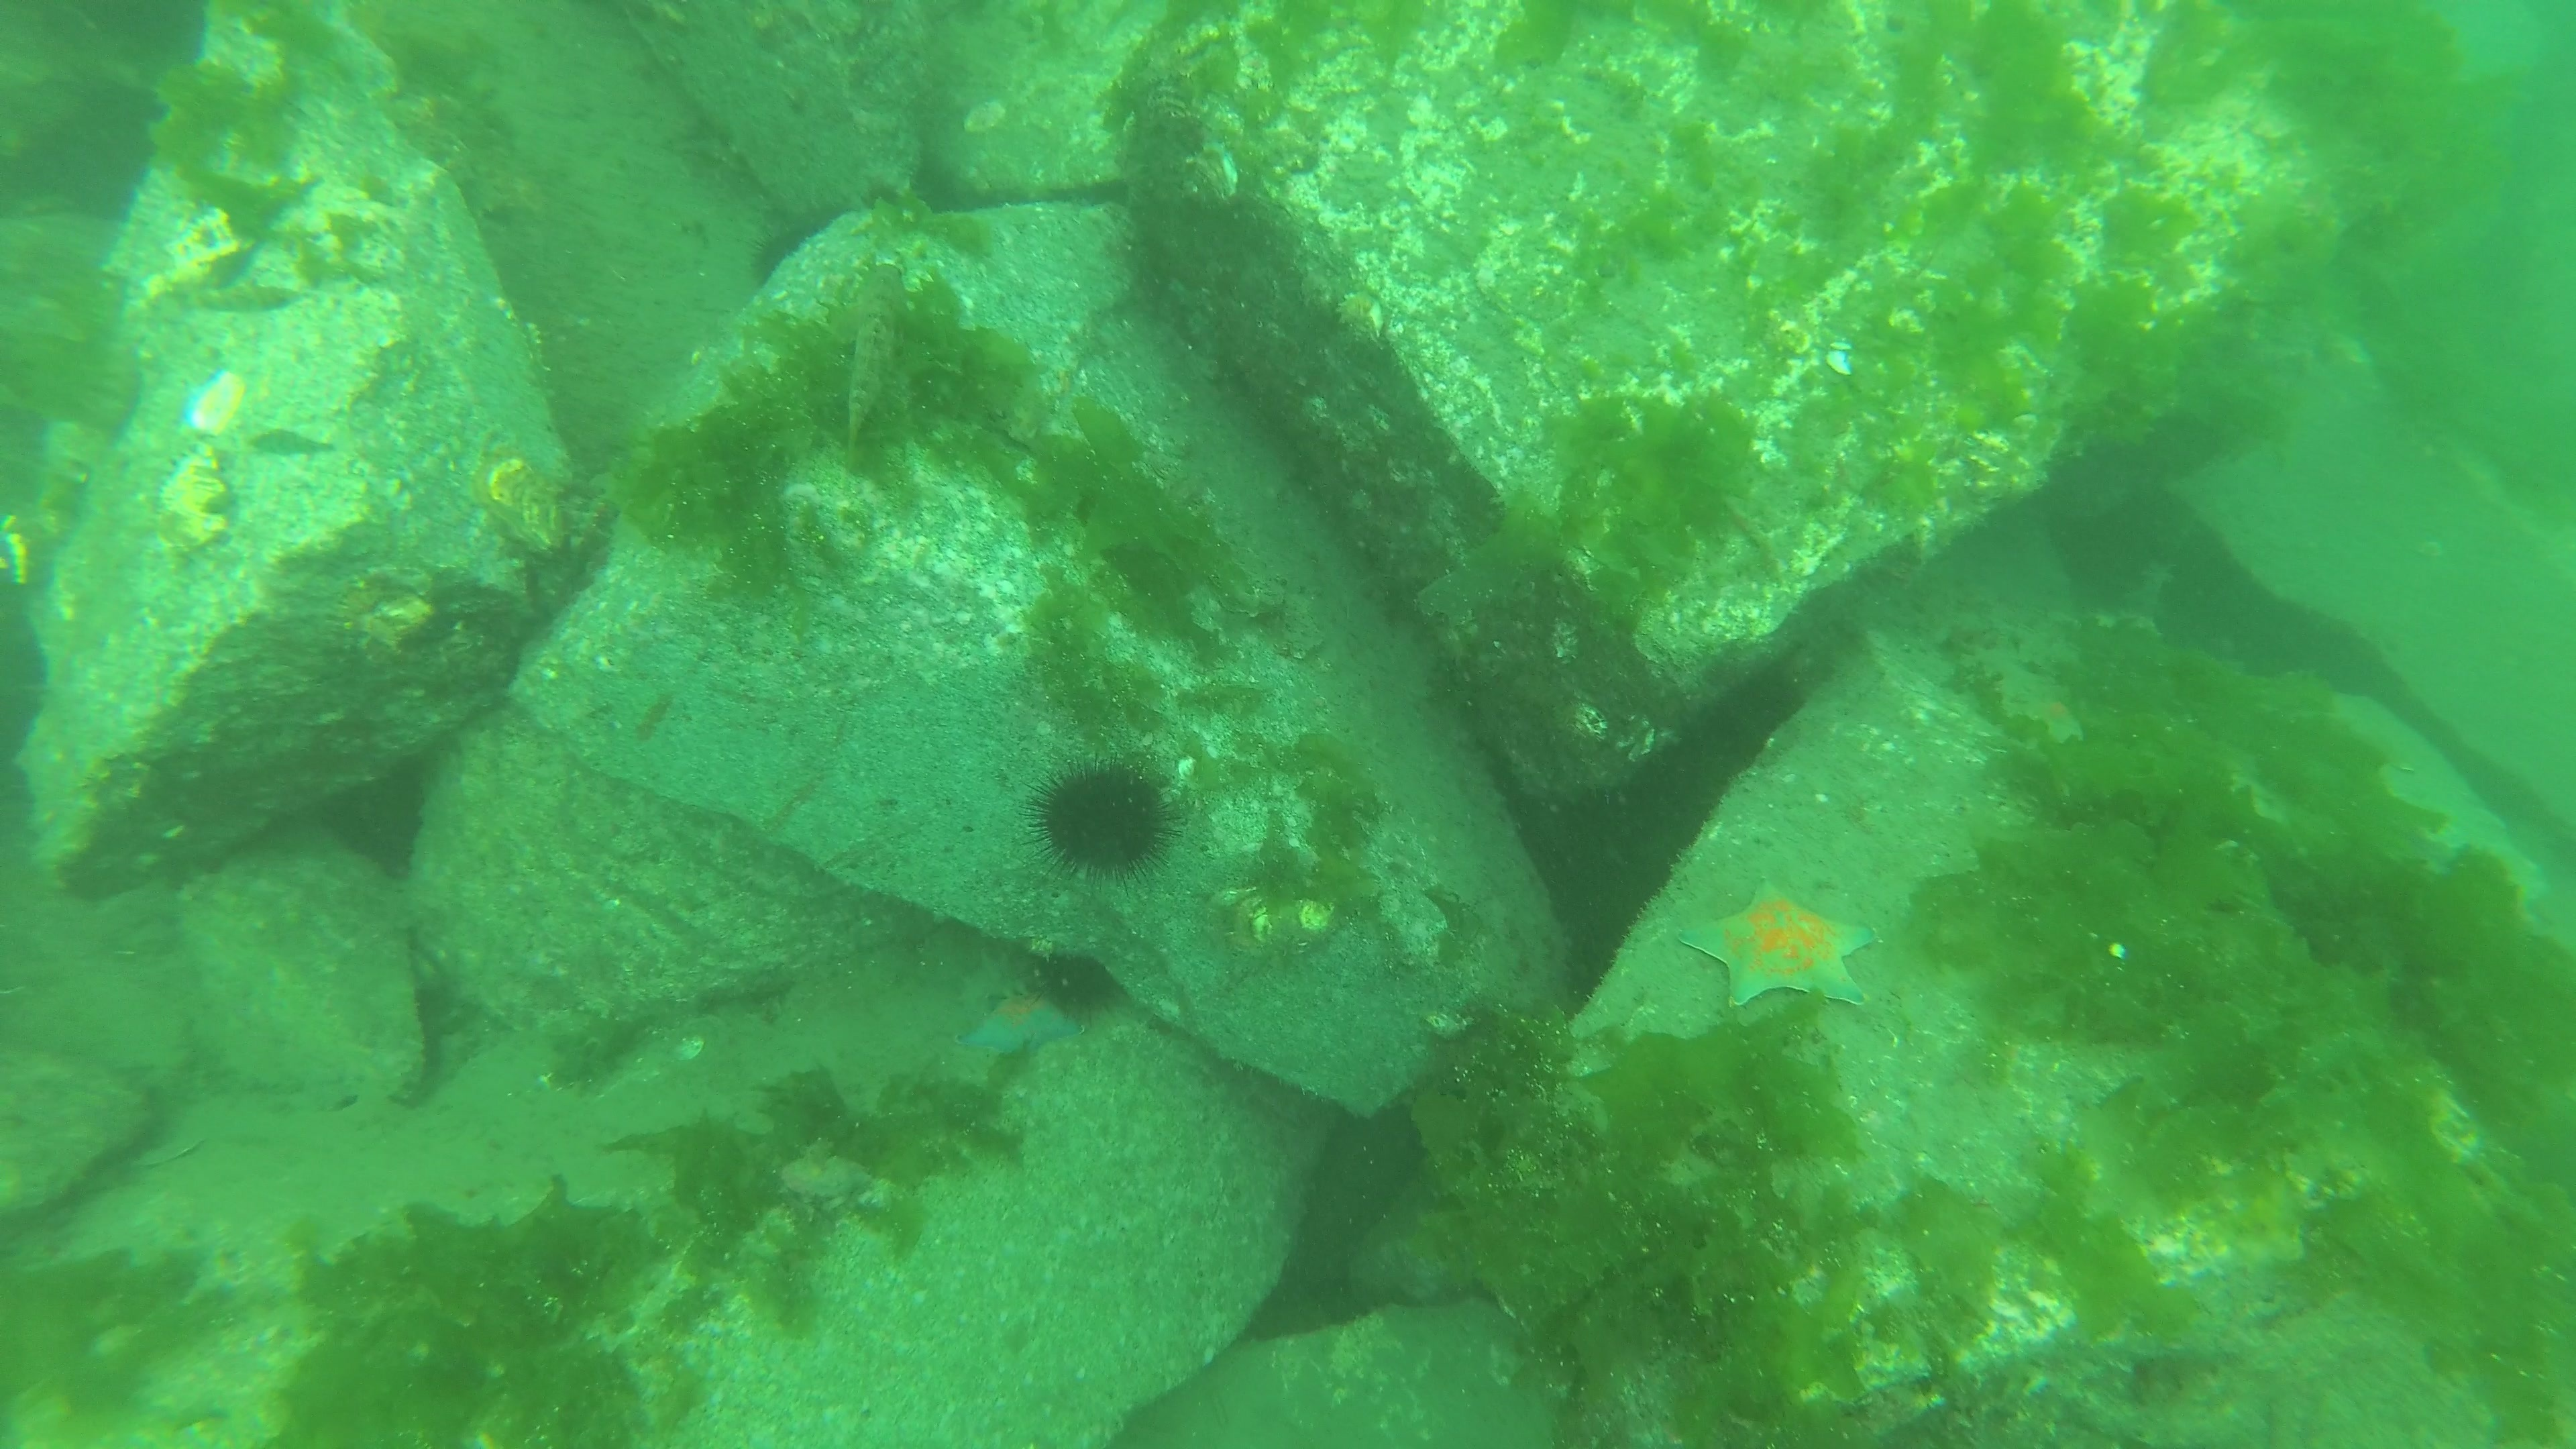echinus: (1016, 750, 1189, 901), (46, 78, 172, 223), (1024, 952, 1123, 1030), (747, 221, 821, 290)
holothurian: (948, 950, 1060, 1008), (782, 1134, 874, 1200)
starfish: (1674, 874, 1884, 1014), (954, 989, 1088, 1058)
